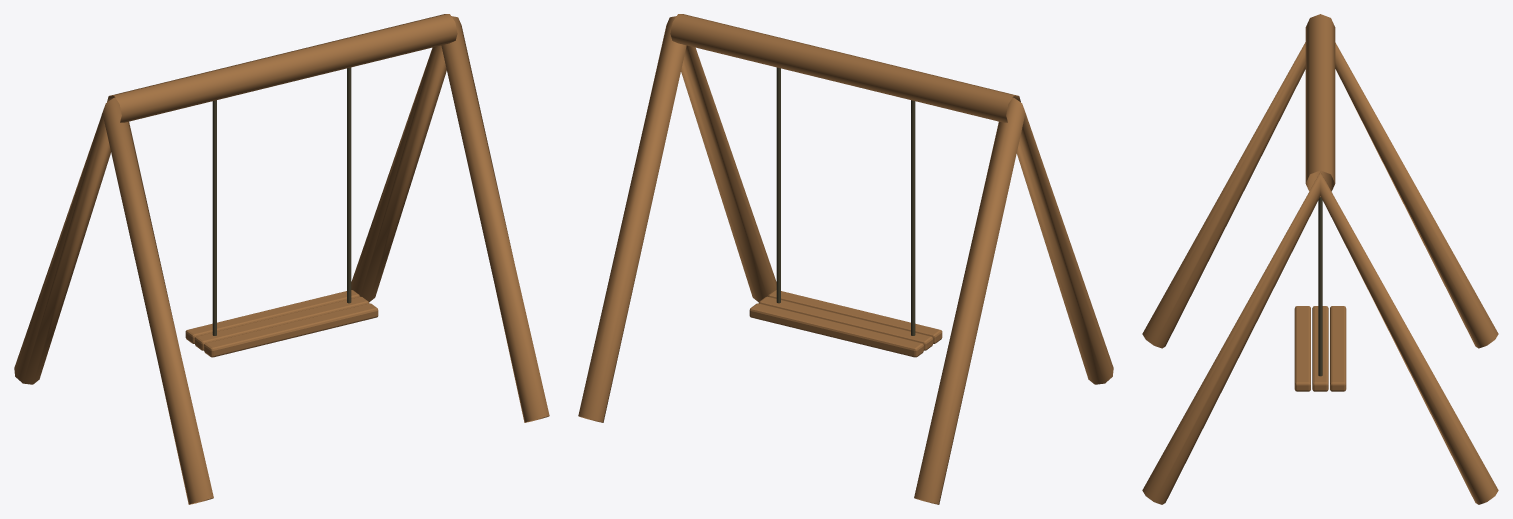
Rendered from swing.glb.
The picture shows the model from 3 angles, left to right: view 1: azimuth 30°, elevation 25°; view 2: azimuth 150°, elevation 25°; view 3: azimuth 270°, elevation 25°; orthographic projection. The views are drawn at different scales.
Parts seen in each view (by area): view 1: part_00006, part_00007, part_00005, part_00002, part_00003, part_00004, part_00001, part_00000; view 2: part_00006, part_00007, part_00005, part_00004, part_00003, part_00002, part_00001, part_00000; view 3: part_00007, part_00006, part_00005, part_00002, part_00004, part_00003, part_00001.
Part boxes in pixels (bbox=[...]): part_00006: bbox=[14, 97, 213, 504]; part_00007: bbox=[351, 16, 549, 422]; part_00005: bbox=[107, 14, 457, 122]; part_00002: bbox=[204, 303, 378, 357]; part_00003: bbox=[194, 296, 368, 350]; part_00004: bbox=[185, 290, 359, 343]; part_00001: bbox=[347, 67, 351, 303]; part_00000: bbox=[212, 100, 216, 335]; part_00006: bbox=[914, 97, 1113, 504]; part_00007: bbox=[578, 16, 776, 422]; part_00005: bbox=[670, 14, 1020, 122]; part_00004: bbox=[749, 303, 923, 357]; part_00003: bbox=[759, 296, 933, 350]; part_00002: bbox=[768, 290, 942, 343]; part_00001: bbox=[776, 67, 780, 303]; part_00000: bbox=[911, 100, 915, 335]; part_00007: bbox=[1142, 172, 1498, 504]; part_00006: bbox=[1142, 42, 1498, 348]; part_00005: bbox=[1305, 14, 1335, 196]; part_00002: bbox=[1294, 306, 1310, 391]; part_00004: bbox=[1330, 306, 1346, 391]; part_00003: bbox=[1312, 306, 1328, 391]; part_00001: bbox=[1318, 197, 1322, 376].
Bounding box in the file's own units: 4.28 × 3.97 × 3.85.
